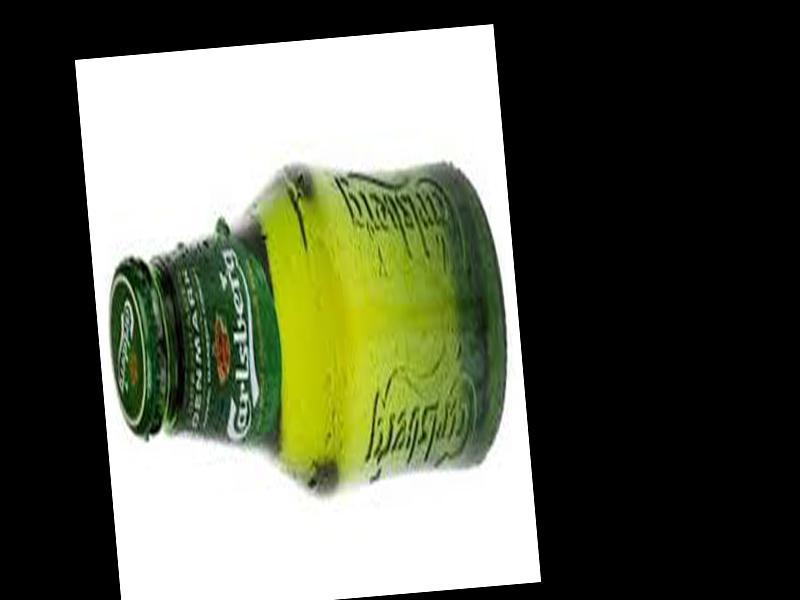Beer: (97, 150, 520, 504)
